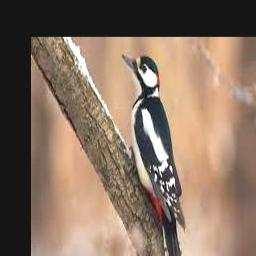Woodpecker: (121, 53, 185, 256)
